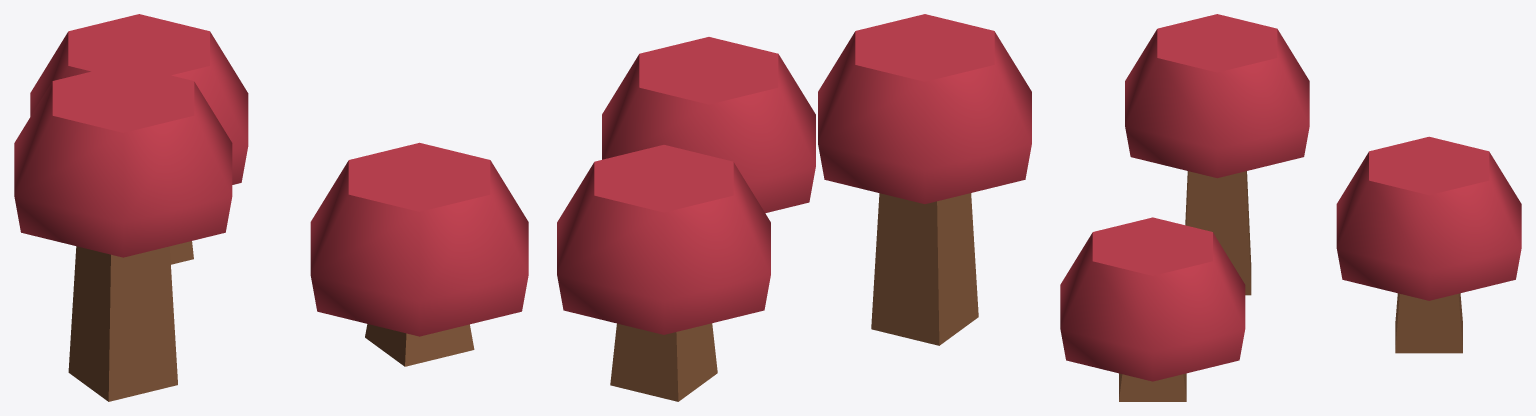
The model's file is mushrooms.glb.
3 views of the same model, side by side, from view 1: azimuth 30°, elevation 25°; view 2: azimuth 150°, elevation 25°; view 3: azimuth 270°, elevation 25° (orthographic). The views are drawn at different scales.
Parts seen in each view (by area): view 1: mushrooms; view 2: mushrooms; view 3: mushrooms.
Part boxes in pixels (box(x1,y1,x2,y2)): mushrooms: box(14, 14, 528, 401); mushrooms: box(557, 14, 1031, 401); mushrooms: box(1060, 14, 1521, 401).
Bounding box in the file's own units: 0.5242 × 0.295 × 0.5188.
